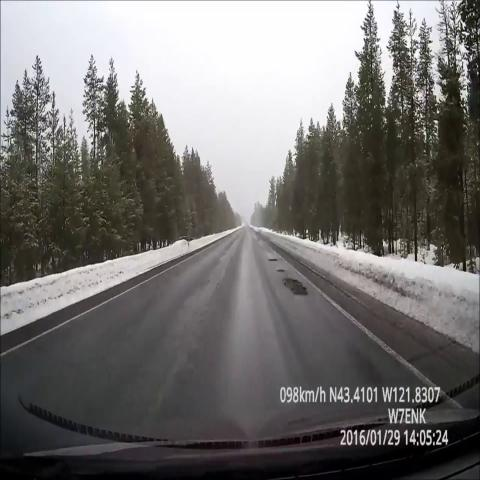pothole: (278, 274, 313, 297), (266, 250, 279, 267), (273, 265, 287, 276)
